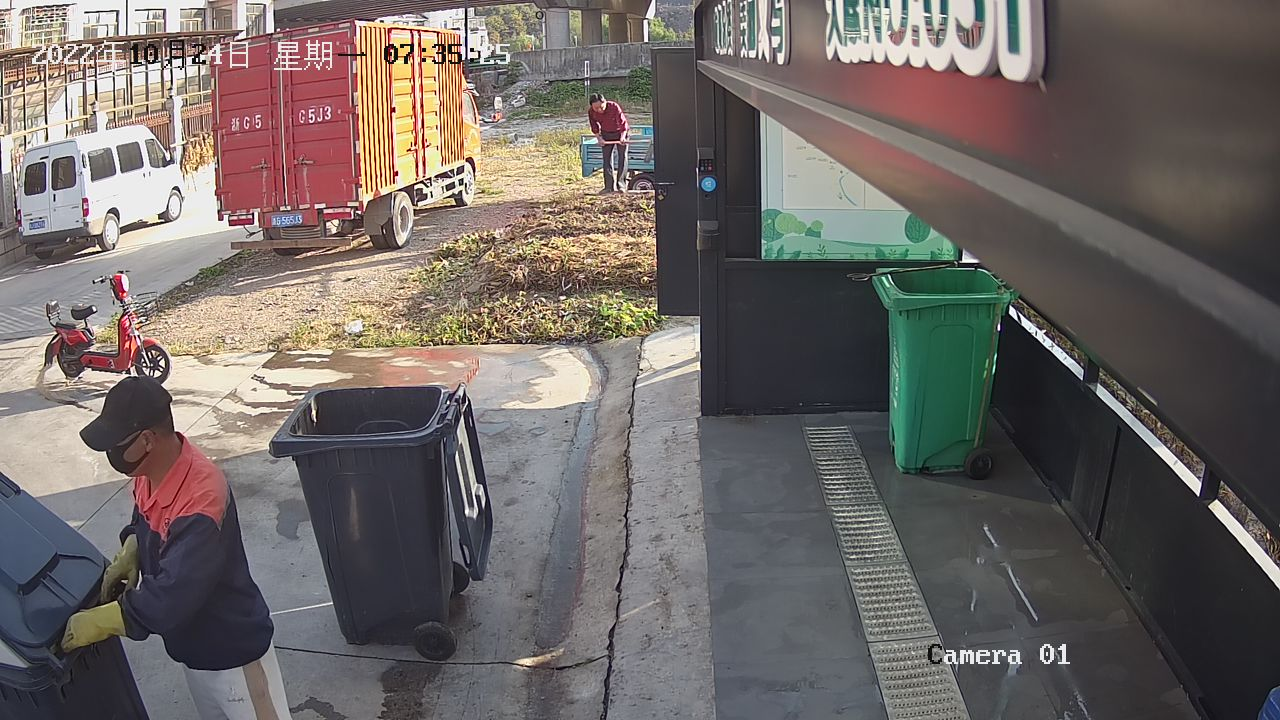person: (580, 84, 636, 198)
worker: (55, 368, 296, 720)
